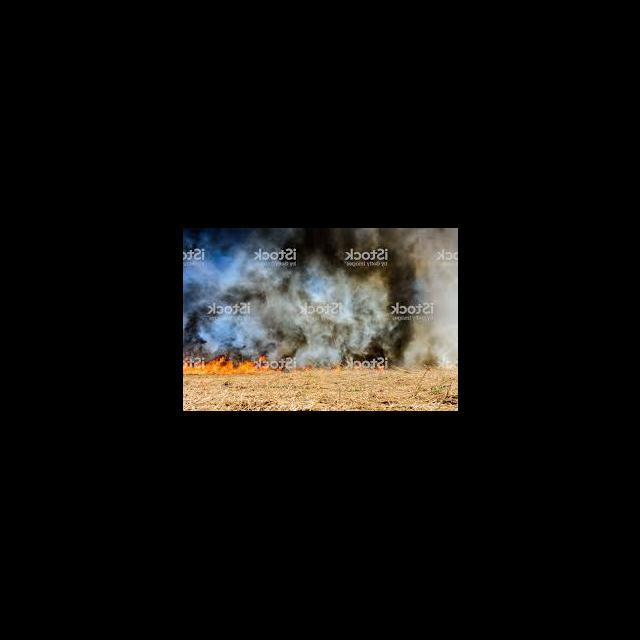Fire: (182, 354, 272, 375), (332, 364, 342, 373), (376, 363, 384, 372), (304, 365, 313, 373), (354, 363, 362, 370), (296, 367, 302, 374), (277, 367, 283, 372)
Smoke: (184, 228, 392, 354), (392, 228, 458, 358)
